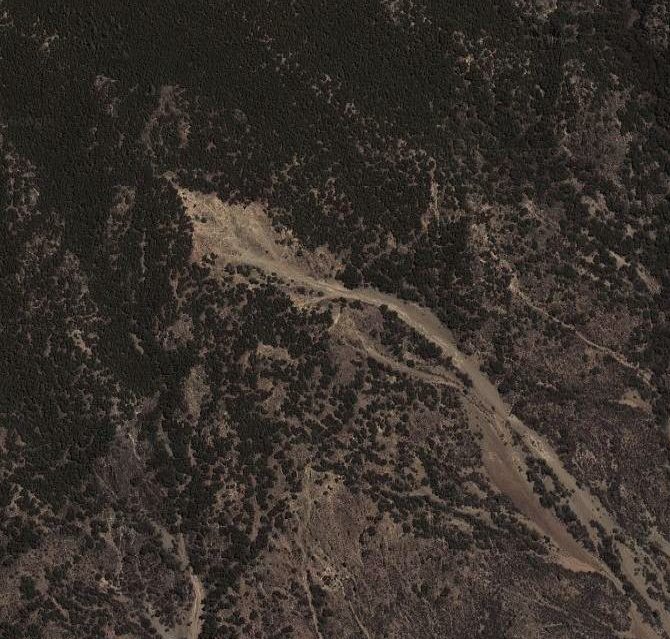slope: (177, 184, 351, 306)
